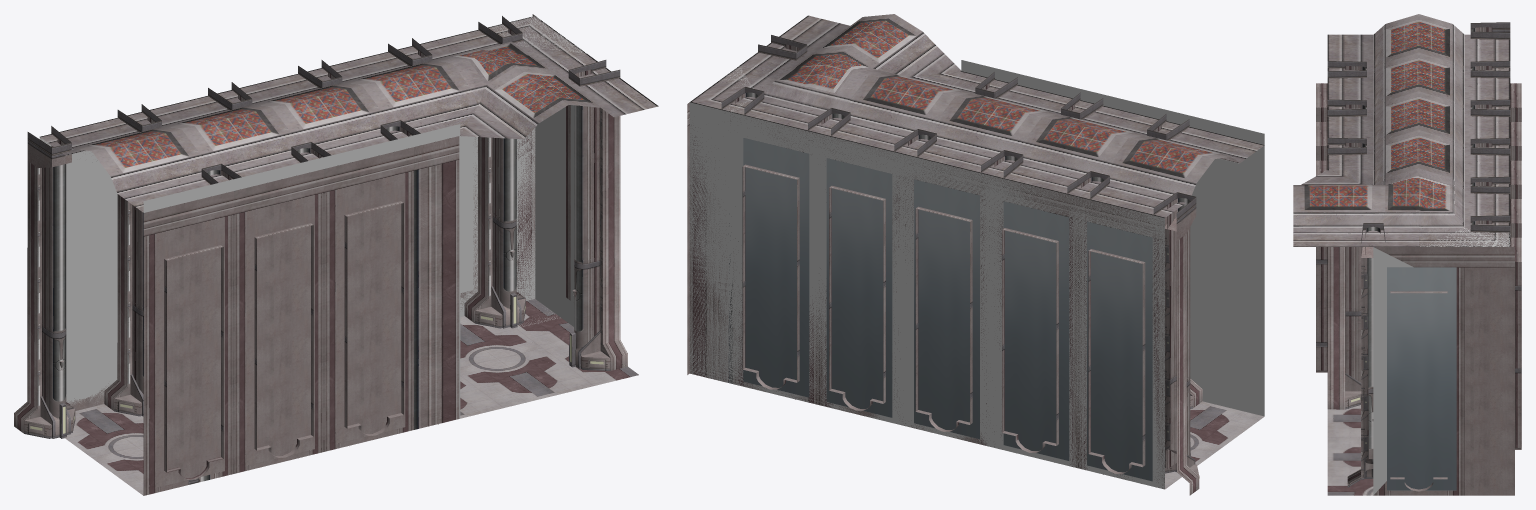
File: Cor1_bldg_Minor_hall_06.fbx
3 renders of one model, left to right at view 1: azimuth 30°, elevation 25°; view 2: azimuth 150°, elevation 25°; view 3: azimuth 270°, elevation 25°, orthographic. The views are drawn at different scales.
Parts seen in each view (by area): view 1: Minor_hall_06, Minor_hall_06_lowrez, window_main13, window_main27, window_main12, pillar_a16, polymsh_extracted127, pillar_a7, polymsh_extracted422, polymsh_extracted424, polymsh_extracted423, pillar_a12 (+3 smaller); view 2: Minor_hall_06_lowrez, Minor_hall_06, window_main36, window_main39, window_main38, window_main37, window_main35, pillar_a7, polymsh_extracted398, polymsh_extracted22, polymsh_extracted399, polymsh_extracted402 (+5 smaller); view 3: Minor_hall_06, polymsh_extracted403, window_main34, pillar_a15, Minor_hall_06_lowrez, pillar_a16, polymsh_extracted424, polymsh_extracted402, pillar_a7, pillar_a10, pillar_a12, pillar_a9 (+10 smaller).
Part boxes in pixels (x1=…): Minor_hall_06: x1=40, y1=16, x2=658, y2=495; Minor_hall_06_lowrez: x1=39, y1=16, x2=586, y2=418; window_main13: x1=336, y1=173, x2=405, y2=443; window_main27: x1=156, y1=217, x2=224, y2=487; window_main12: x1=246, y1=195, x2=314, y2=465; pillar_a16: x1=568, y1=60, x2=627, y2=370; polymsh_extracted127: x1=414, y1=136, x2=459, y2=429; pillar_a7: x1=14, y1=126, x2=75, y2=438; polymsh_extracted422: x1=143, y1=191, x2=233, y2=495; polymsh_extracted424: x1=324, y1=147, x2=413, y2=451; polymsh_extracted423: x1=234, y1=169, x2=323, y2=473; pillar_a12: x1=464, y1=16, x2=525, y2=328; Minor_hall_06_lowrez: x1=689, y1=60, x2=1264, y2=489; Minor_hall_06: x1=690, y1=14, x2=1264, y2=489; window_main36: x1=1003, y1=201, x2=1069, y2=460; window_main39: x1=743, y1=138, x2=809, y2=397; window_main38: x1=826, y1=158, x2=892, y2=417; window_main37: x1=914, y1=179, x2=979, y2=439; window_main35: x1=1087, y1=221, x2=1152, y2=481; pillar_a7: x1=1153, y1=192, x2=1199, y2=495; polymsh_extracted398: x1=1078, y1=197, x2=1164, y2=488; polymsh_extracted22: x1=689, y1=112, x2=732, y2=383; polymsh_extracted399: x1=992, y1=177, x2=1078, y2=468; polymsh_extracted402: x1=733, y1=116, x2=819, y2=404; Minor_hall_06: x1=1293, y1=14, x2=1510, y2=495; polymsh_extracted403: x1=1373, y1=247, x2=1514, y2=495; window_main34: x1=1387, y1=267, x2=1456, y2=490; pillar_a15: x1=1327, y1=137, x2=1366, y2=409; Minor_hall_06_lowrez: x1=1373, y1=228, x2=1510, y2=494; pillar_a16: x1=1347, y1=223, x2=1385, y2=487; polymsh_extracted424: x1=1316, y1=160, x2=1327, y2=372; polymsh_extracted402: x1=1510, y1=237, x2=1521, y2=449; pillar_a7: x1=1470, y1=22, x2=1510, y2=39; pillar_a10: x1=1470, y1=138, x2=1510, y2=155; pillar_a12: x1=1470, y1=215, x2=1510, y2=232; pillar_a9: x1=1470, y1=99, x2=1510, y2=116.
Bounding box in the file's own units: 4727 × 2604 × 2000.
